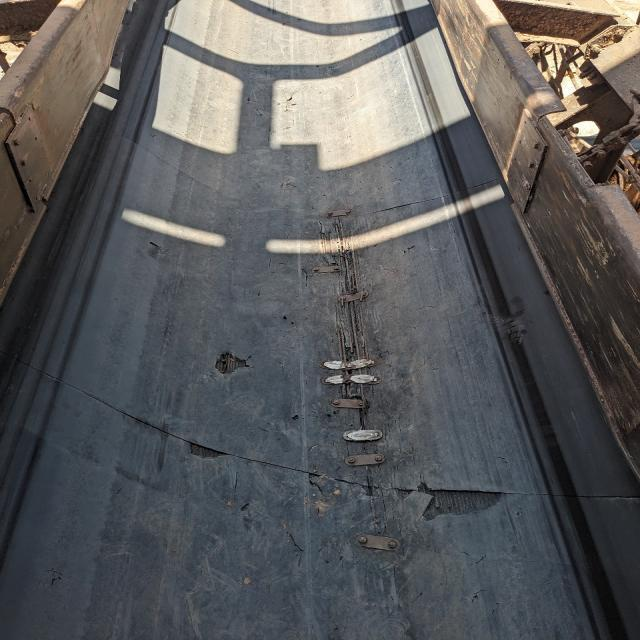Tear: (56, 371, 549, 527), (322, 205, 384, 498), (201, 344, 254, 376), (142, 243, 174, 253)
